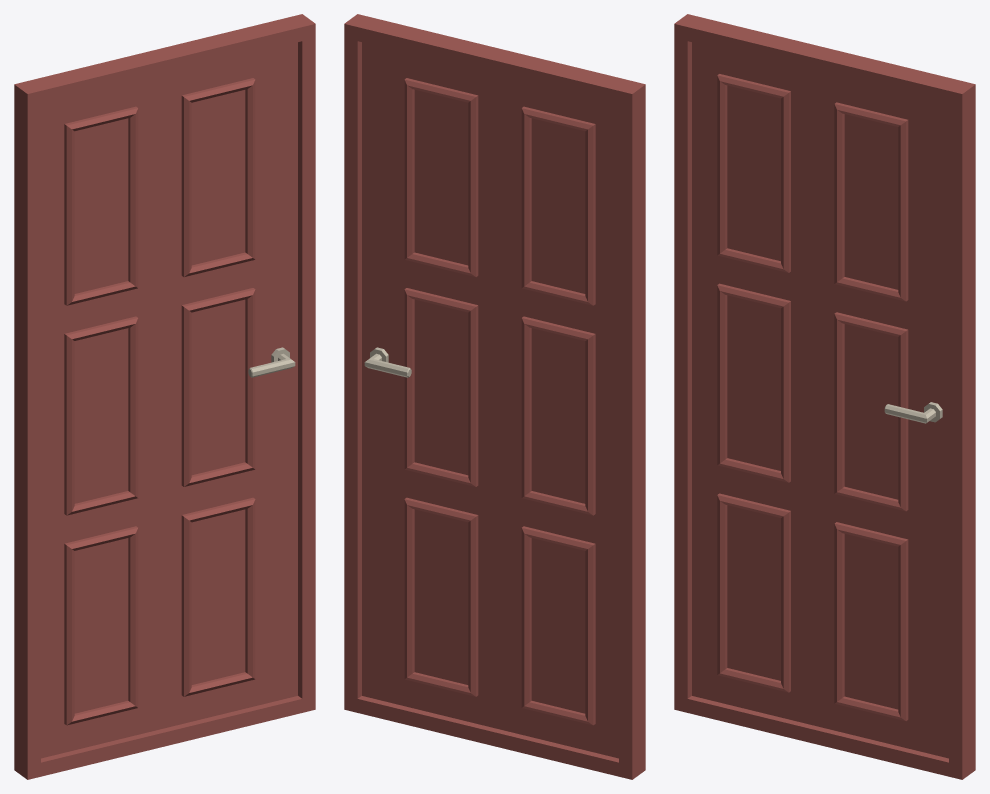
File: Mesh_Door_B10.fbx
3 views of the same model, side by side, from view 1: azimuth 30°, elevation 25°; view 2: azimuth 150°, elevation 25°; view 3: azimuth 330°, elevation 25° (orthographic).
Parts seen in each view (by area): view 1: Mesh_Door_B10; view 2: Mesh_Door_B10; view 3: Mesh_Door_B10.
Boxes of the visible parts, bbox=[...] form: Mesh_Door_B10: bbox=[14, 14, 315, 779]; Mesh_Door_B10: bbox=[344, 14, 645, 779]; Mesh_Door_B10: bbox=[674, 14, 975, 779].
Bounding box in the file's own units: 0.9 × 2.05 × 0.1524.
